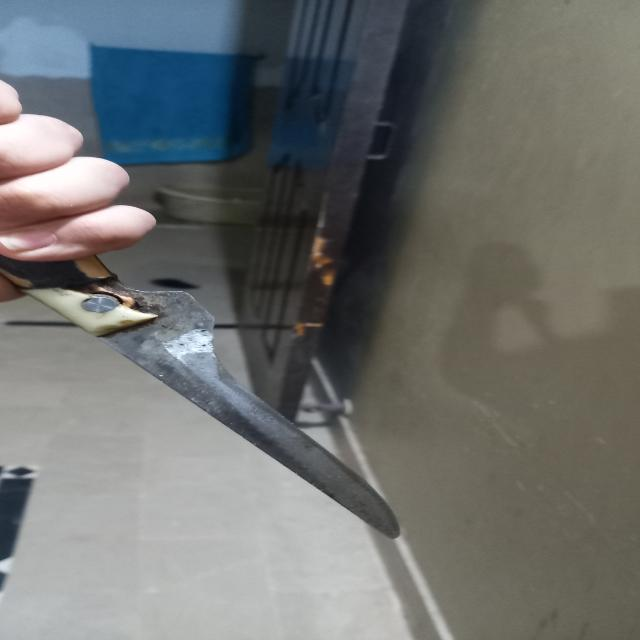Knife: (0, 203, 413, 540)
